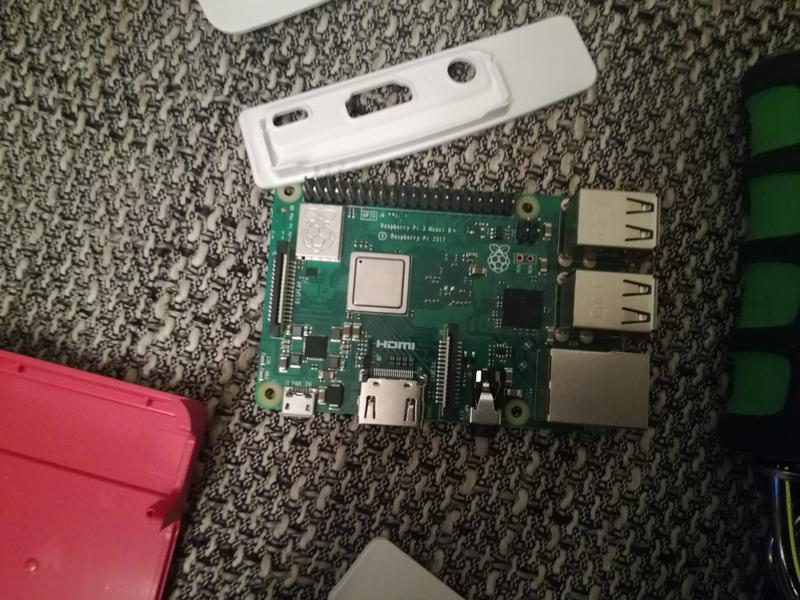Raspberry_Pi_3: (248, 171, 670, 470)
